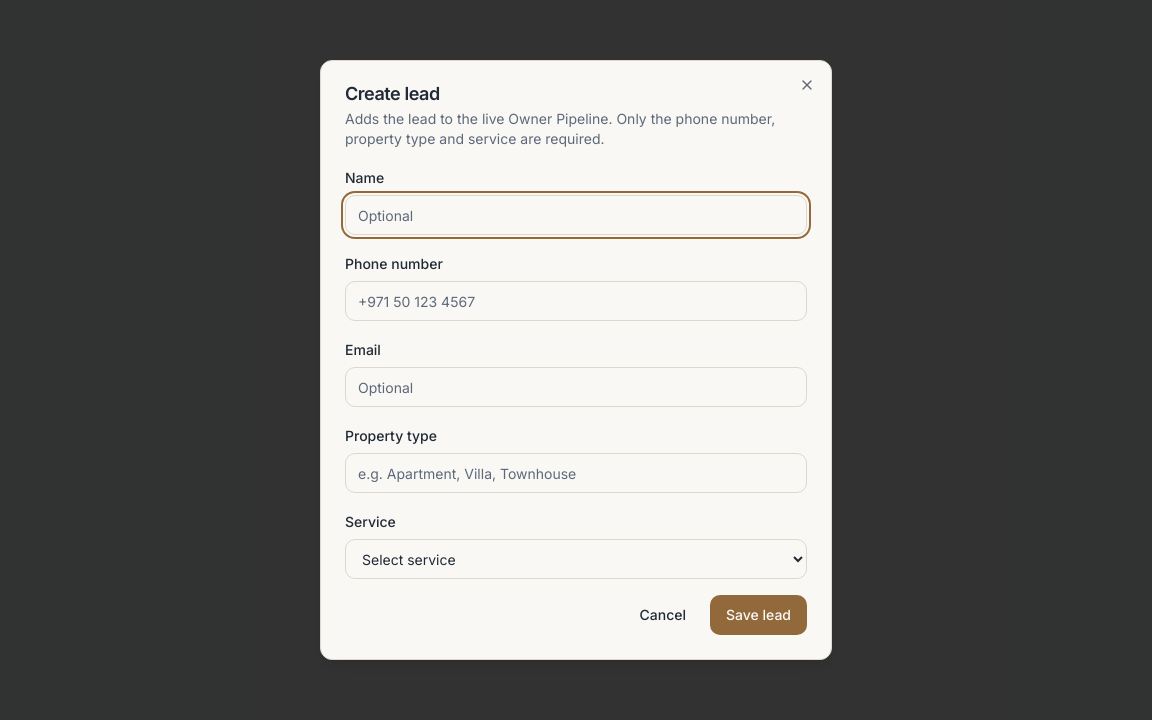
CreateLeadDialog › surfaces a backend error message inside the dialog and keeps the form open
Type "971501234567" into the field labelled "Phone number". click: point(576, 301)
box: [345,281,807,321]
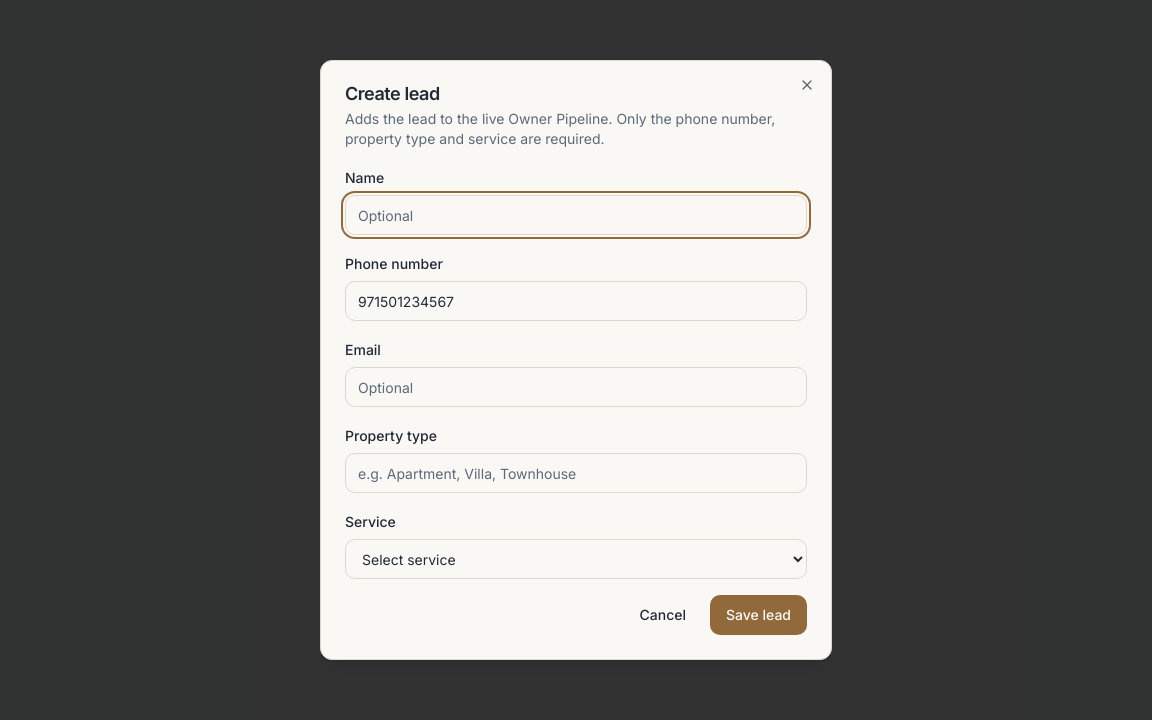
Type "Other" into the field labelled "Property type". click: point(576, 473)
box: [345,453,807,493]
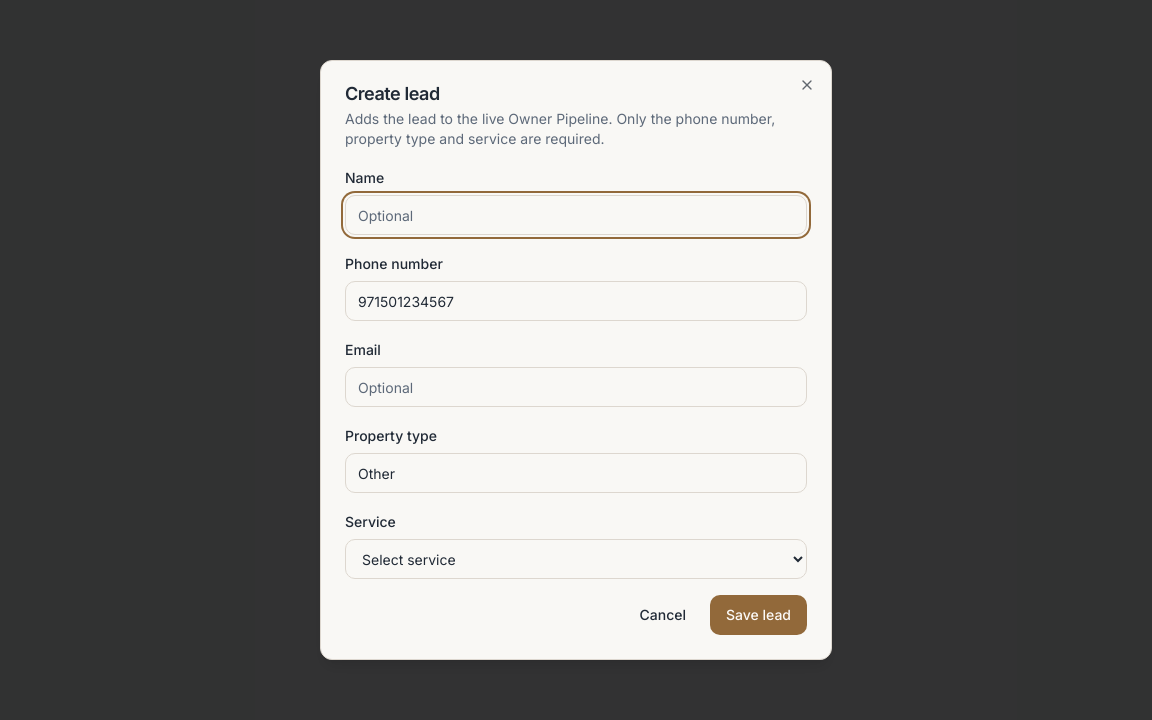
Select "Property Management" in the dropdown labelled "Service". click: point(576, 559)
box: [345,539,807,579]
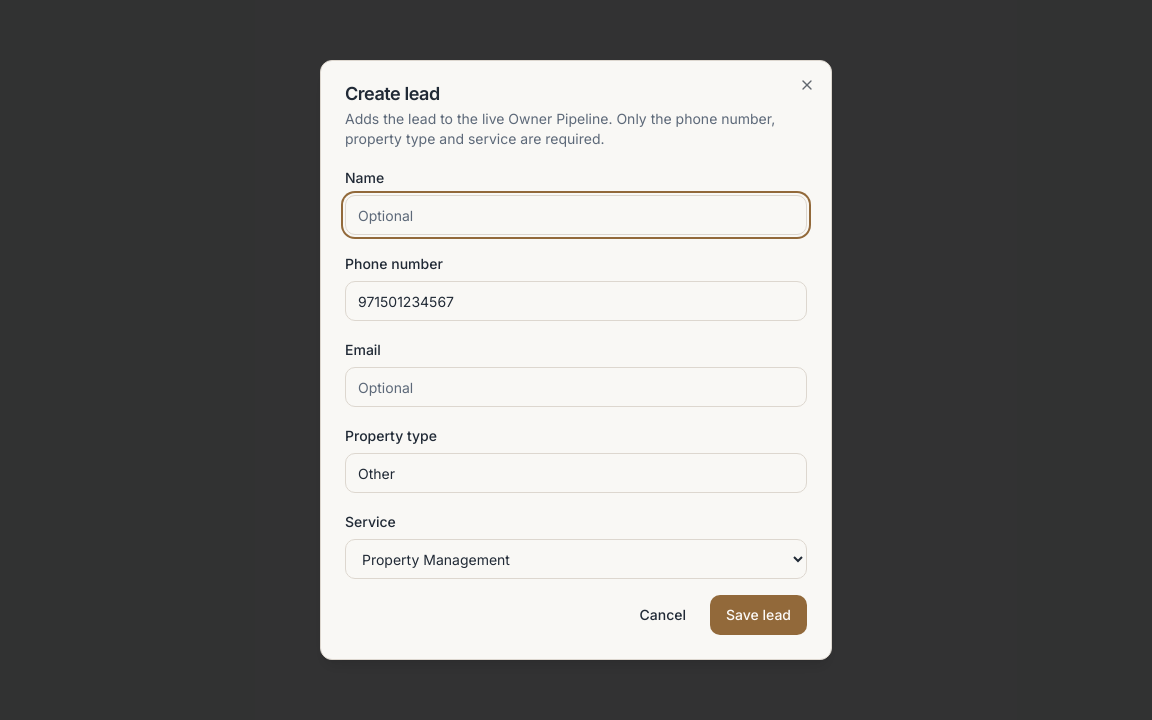
Click the button "Save lead". click: point(758, 615)
box: [710,595,807,635]
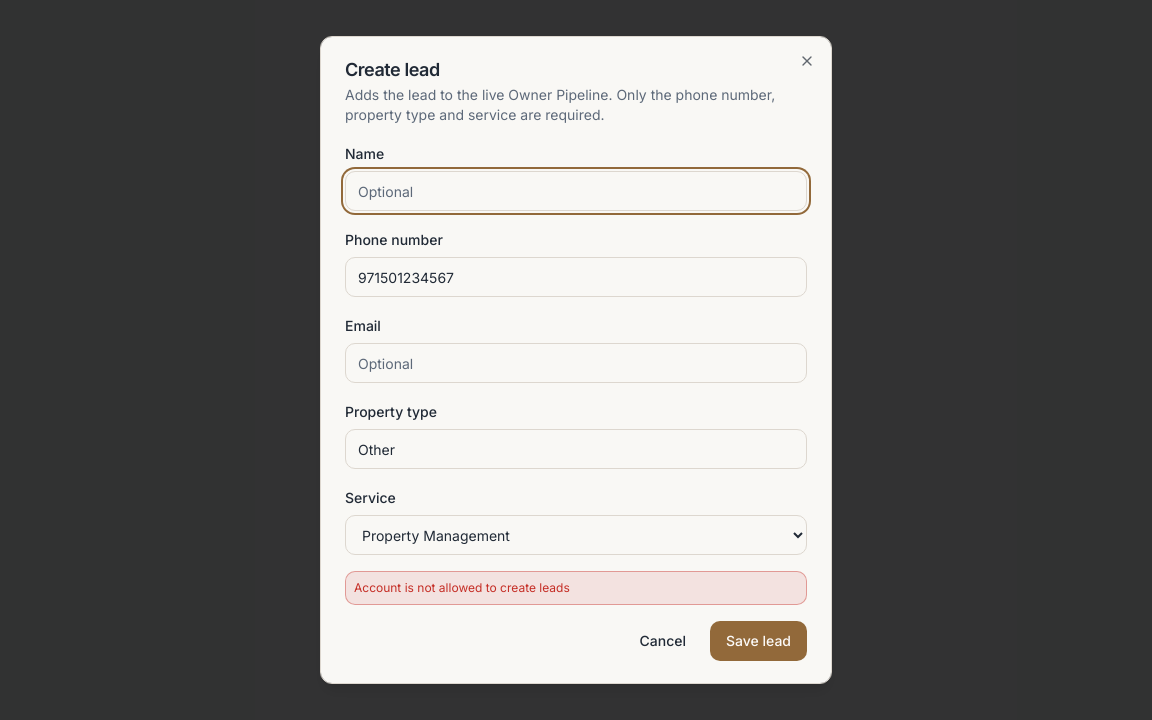
expect the form with test id "create-lead-form" is shown: met, box [345,141,807,661]
expect the text "Account is not allowed to create leads" is shown: met, box [345,571,807,605]
